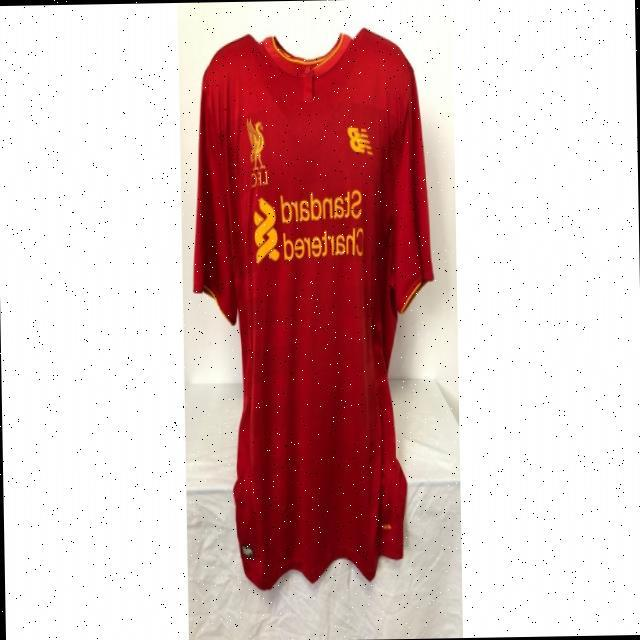Standard Chartered: (253, 189, 364, 263)
